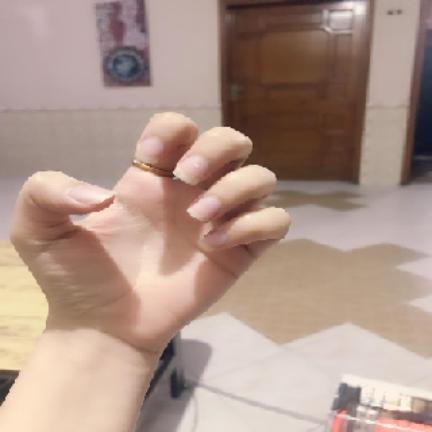Nail: (175, 155, 209, 185), (186, 196, 223, 222), (69, 184, 112, 203), (136, 137, 163, 164), (199, 229, 230, 251)
